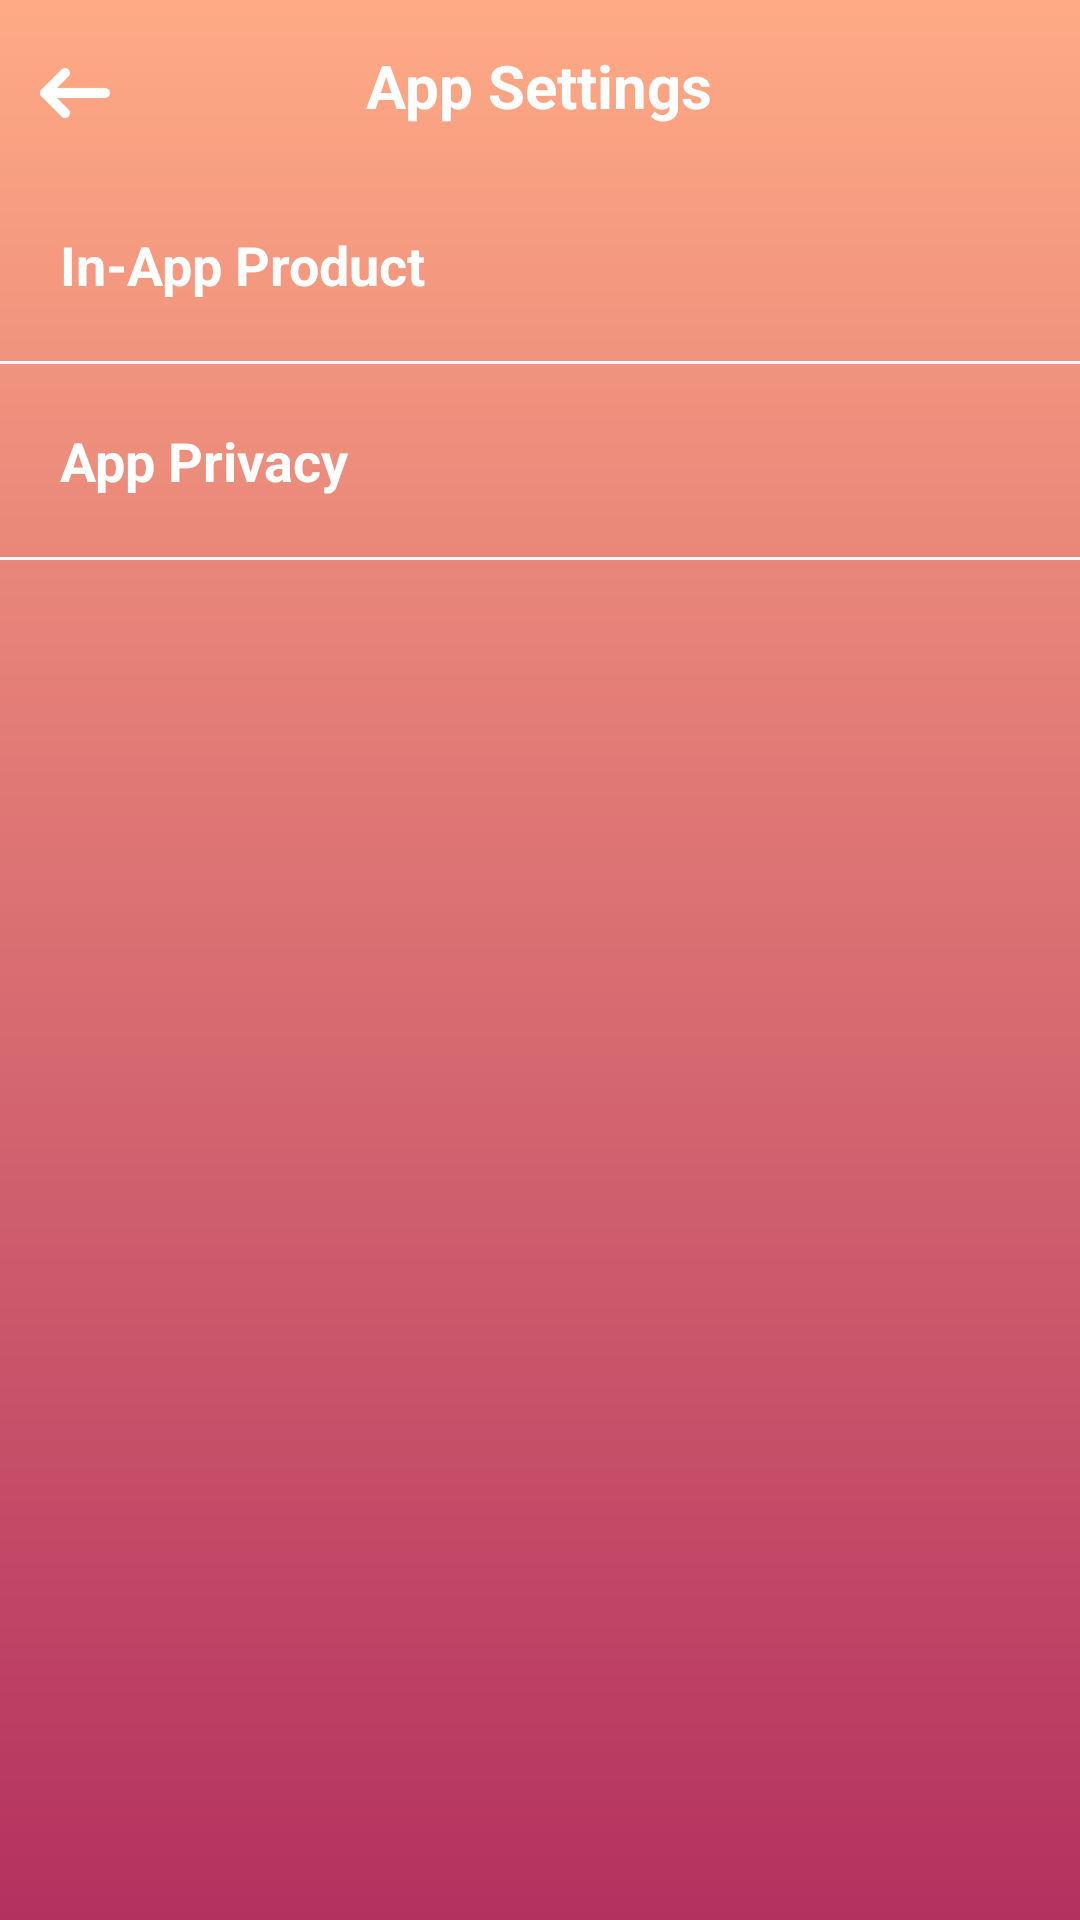

Locate icon controls on the screen. Image size 1080*1920, boxes as (x1, y1, x2, y2).
back: (40, 68, 110, 118)
